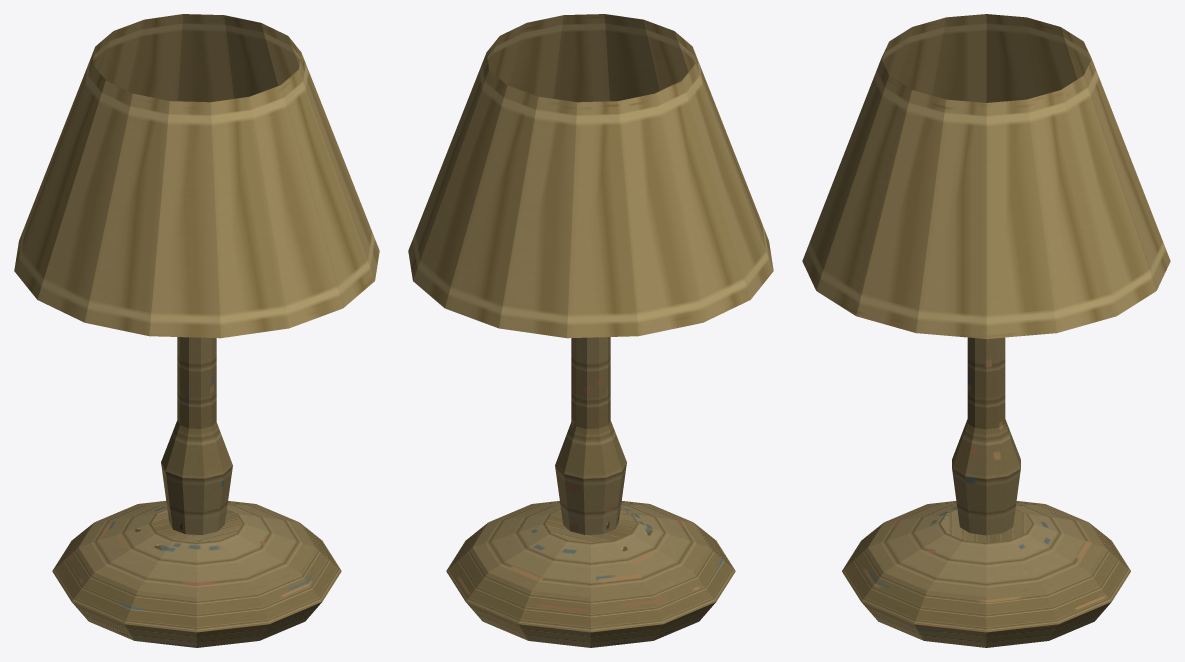
The model's file is MD_32_DeskLamp.fbx.
3 renders of one model, left to right at view 1: azimuth 30°, elevation 25°; view 2: azimuth 150°, elevation 25°; view 3: azimuth 270°, elevation 25°, orthographic.
Parts seen in each view (by area): view 1: MD_32_DeskLamp_pleated_shade, MD_32_DeskLamp_weighted_base, MD_32_DeskLamp_turned_stem; view 2: MD_32_DeskLamp_pleated_shade, MD_32_DeskLamp_weighted_base, MD_32_DeskLamp_turned_stem; view 3: MD_32_DeskLamp_pleated_shade, MD_32_DeskLamp_weighted_base, MD_32_DeskLamp_turned_stem.
Part boxes in pixels (box(x1,y1,x2,y2)): MD_32_DeskLamp_pleated_shade: box(14, 14, 379, 338); MD_32_DeskLamp_weighted_base: box(52, 501, 341, 647); MD_32_DeskLamp_turned_stem: box(161, 337, 232, 534); MD_32_DeskLamp_pleated_shade: box(408, 14, 773, 338); MD_32_DeskLamp_weighted_base: box(446, 501, 735, 647); MD_32_DeskLamp_turned_stem: box(555, 337, 626, 534); MD_32_DeskLamp_pleated_shade: box(802, 14, 1170, 338); MD_32_DeskLamp_weighted_base: box(842, 501, 1130, 647); MD_32_DeskLamp_turned_stem: box(952, 337, 1020, 535).
Size of the model in its own units: 0.56 by 0.9 by 0.56.
Materials: 3 (3 with a texture image).
